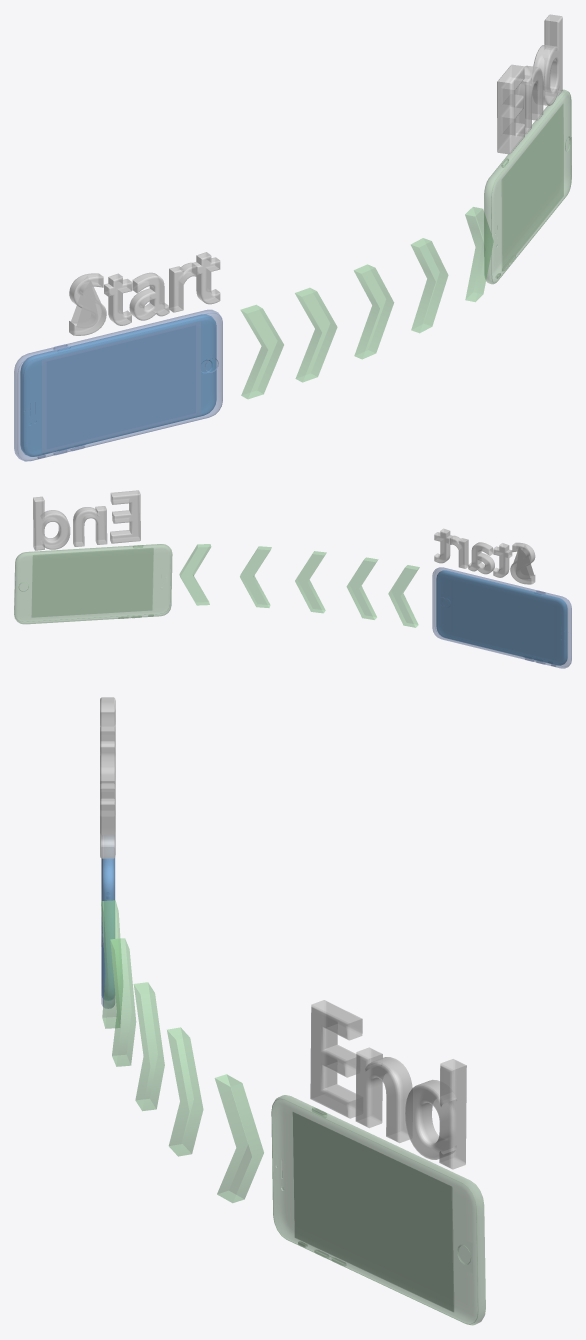
File: ani2.fbx
3 renders of one model, top to bottom at view 1: azimuth 30°, elevation 25°; view 2: azimuth 150°, elevation 25°; view 3: azimuth 270°, elevation 25°, orthographic. The views are drawn at different scales.
Visible parts, largest first — view 1: pasted__polySurface38 (×3), pasted__pPlane1 (×3), pasted__polySurface50 (×3), typeMesh3, typeMesh2, pasted__pasted__pCube4, pasted__pasted__pCube6, pasted__pasted__pCube7, pasted__pasted__pCube8, pasted__pasted__pCube9; view 2: pasted__polySurface50 (×3), pasted__polySurface27 (×2), pasted__polySurface38 (×3), typeMesh2, typeMesh3, pasted__pasted__pCube4, pasted__pasted__pCube9, pasted__pasted__pCube6, pasted__pasted__pCube8, pasted__pasted__pCube7; view 3: pasted__polySurface38, pasted__pPlane1, pasted__polySurface50 (×3), typeMesh2, pasted__pasted__pCube9, pasted__pasted__pCube8, pasted__pasted__pCube7, typeMesh3, pasted__pasted__pCube6, pasted__pasted__pCube4.
Boxes of the visible parts, bbox=[...] form: pasted__polySurface38 (×3): bbox=[18, 92, 571, 460]; pasted__pPlane1 (×3): bbox=[42, 104, 563, 453]; pasted__polySurface50 (×3): bbox=[14, 89, 571, 461]; typeMesh3: bbox=[69, 252, 220, 335]; typeMesh2: bbox=[497, 14, 562, 154]; pasted__pasted__pCube4: bbox=[240, 305, 283, 399]; pasted__pasted__pCube6: bbox=[295, 288, 337, 382]; pasted__pasted__pCube7: bbox=[354, 264, 393, 359]; pasted__pasted__pCube8: bbox=[411, 238, 448, 333]; pasted__pasted__pCube9: bbox=[465, 207, 493, 301]; pasted__polySurface50 (×3): bbox=[14, 544, 571, 668]; pasted__polySurface27 (×2): bbox=[31, 548, 553, 657]; pasted__polySurface38 (×3): bbox=[15, 544, 571, 665]; typeMesh2: bbox=[33, 490, 140, 550]; typeMesh3: bbox=[434, 528, 535, 584]; pasted__pasted__pCube4: bbox=[388, 565, 419, 627]; pasted__pasted__pCube9: bbox=[179, 544, 211, 605]; pasted__pasted__pCube6: bbox=[346, 557, 378, 619]; pasted__pasted__pCube8: bbox=[240, 546, 271, 607]; pasted__pasted__pCube7: bbox=[295, 551, 326, 613]; pasted__polySurface38: bbox=[271, 1099, 478, 1324]; pasted__pPlane1: bbox=[293, 1112, 453, 1311]; pasted__polySurface50 (×3): bbox=[103, 858, 485, 1325]; typeMesh2: bbox=[310, 1000, 466, 1169]; pasted__pasted__pCube9: bbox=[215, 1074, 263, 1202]; pasted__pasted__pCube8: bbox=[167, 1027, 203, 1156]; pasted__pasted__pCube7: bbox=[133, 982, 164, 1110]; typeMesh3: bbox=[100, 697, 115, 858]; pasted__pasted__pCube6: bbox=[110, 938, 136, 1066]; pasted__pasted__pCube4: bbox=[101, 900, 122, 1028].
Bounding box in the file's own units: 7.68 × 2.01 × 2.76.
